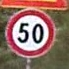limite 50: (4, 8, 55, 58)
